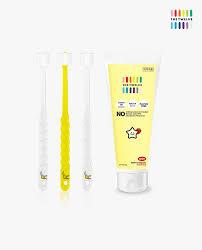toothpaste: (103, 58, 156, 195)
